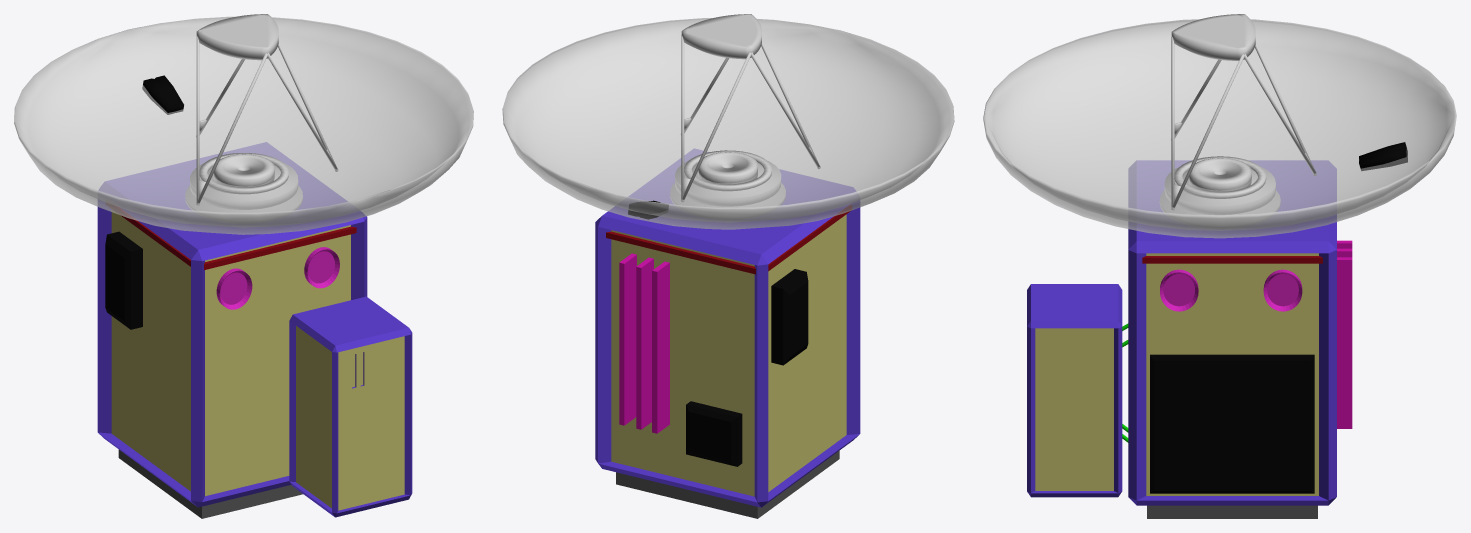
The model's file is Satellite.fbx.
3 renders of one model, left to right at view 1: azimuth 30°, elevation 25°; view 2: azimuth 150°, elevation 25°; view 3: azimuth 270°, elevation 25°, orthographic. The views are drawn at different scales.
Visible parts, largest first — view 1: Cube; view 2: Cube; view 3: Cube.
Part boxes in pixels (box(x1,y1,x2,y2)): Cube: box(14, 14, 473, 518); Cube: box(502, 14, 954, 518); Cube: box(983, 14, 1456, 518).
Size of the model in its own units: 542 by 580 by 544.
